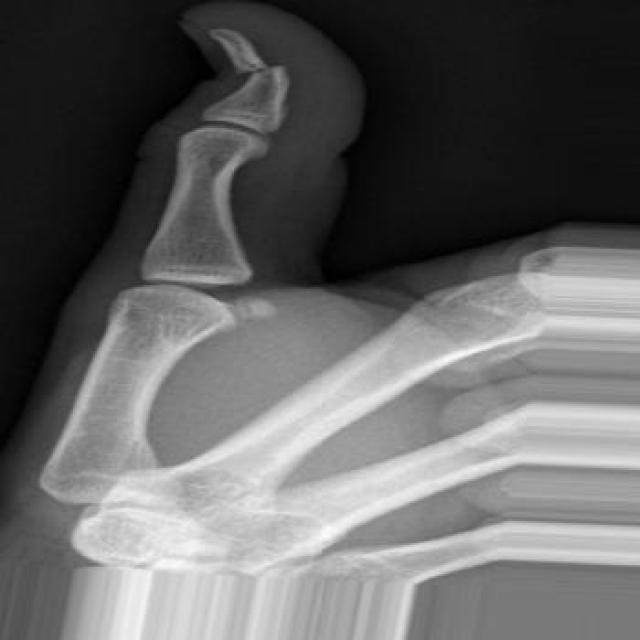Fracture: (224, 44, 306, 86)
